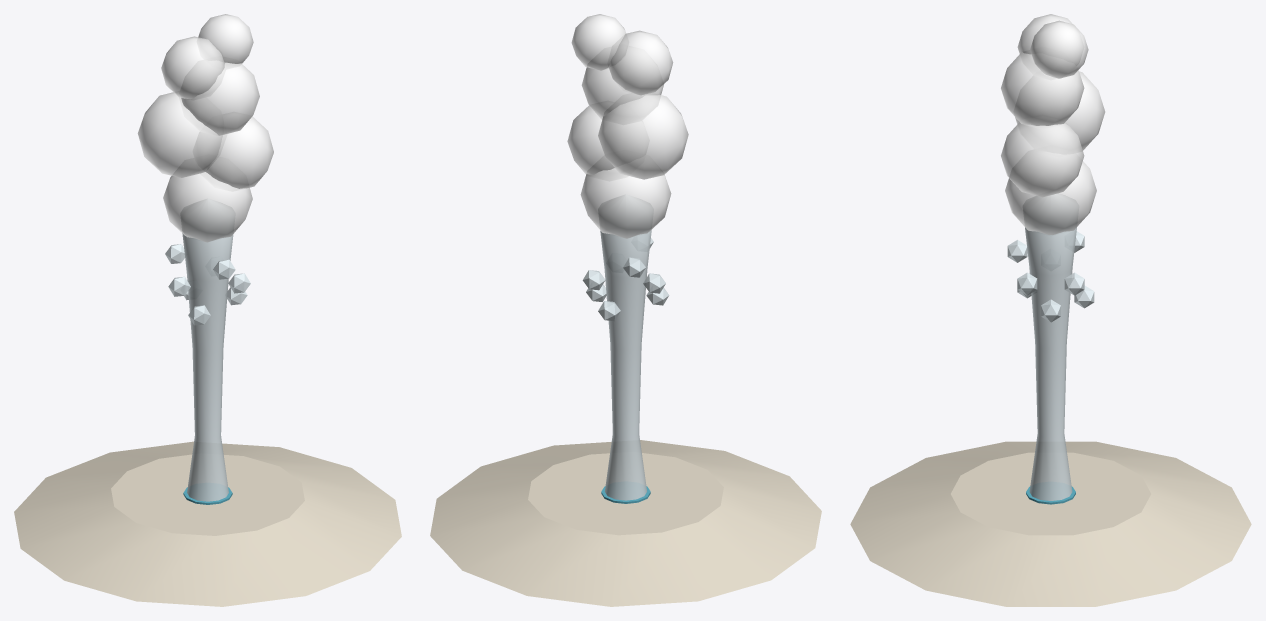
3 renders of one model, left to right at view 1: azimuth 30°, elevation 25°; view 2: azimuth 150°, elevation 25°; view 3: azimuth 270°, elevation 25°, orthographic. The views are drawn at different scales.
Size of the model in its own units: 46.8 by 67.5 by 48.
